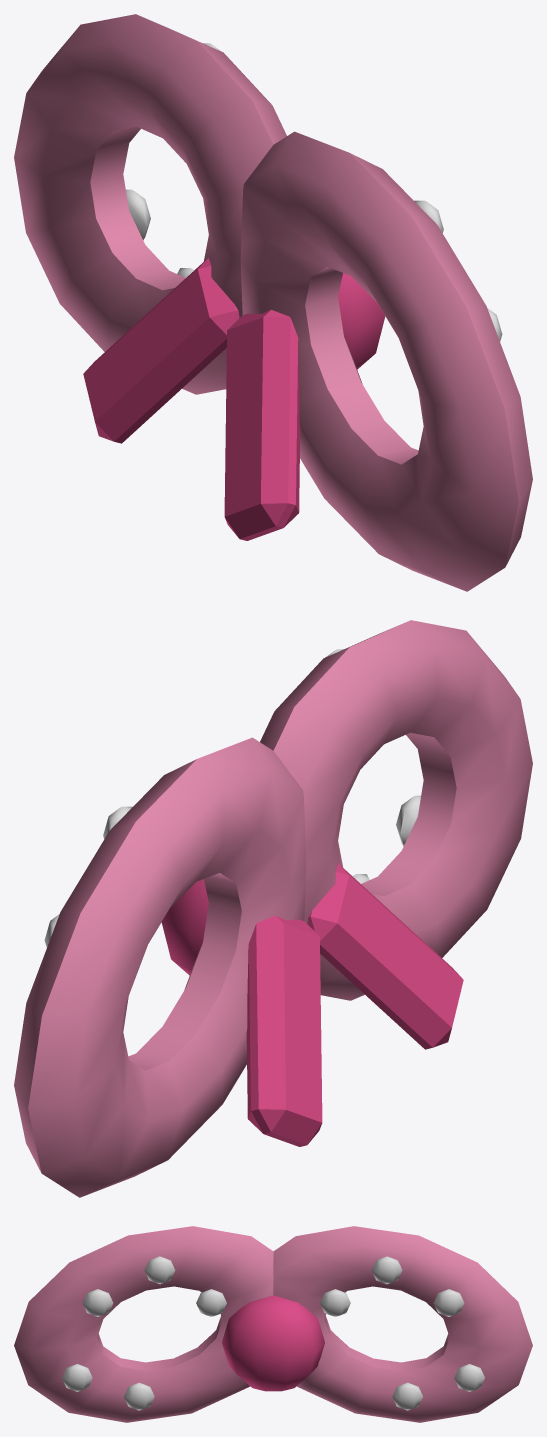
File: bow.glb
3 views of the same model, one above another, from view 1: azimuth 30°, elevation 25°; view 2: azimuth 150°, elevation 25°; view 3: azimuth 270°, elevation 25° (orthographic). The views are drawn at different scales.
Parts seen in each view (by area): view 1: bow; view 2: bow; view 3: bow.
Boxes of the visible parts, x1,y1,x2,y2 form: bow: (14, 14, 532, 591); bow: (14, 620, 532, 1197); bow: (14, 1226, 532, 1422).
Size of the model in its own units: 0.1253 by 0.2103 by 0.5026.
